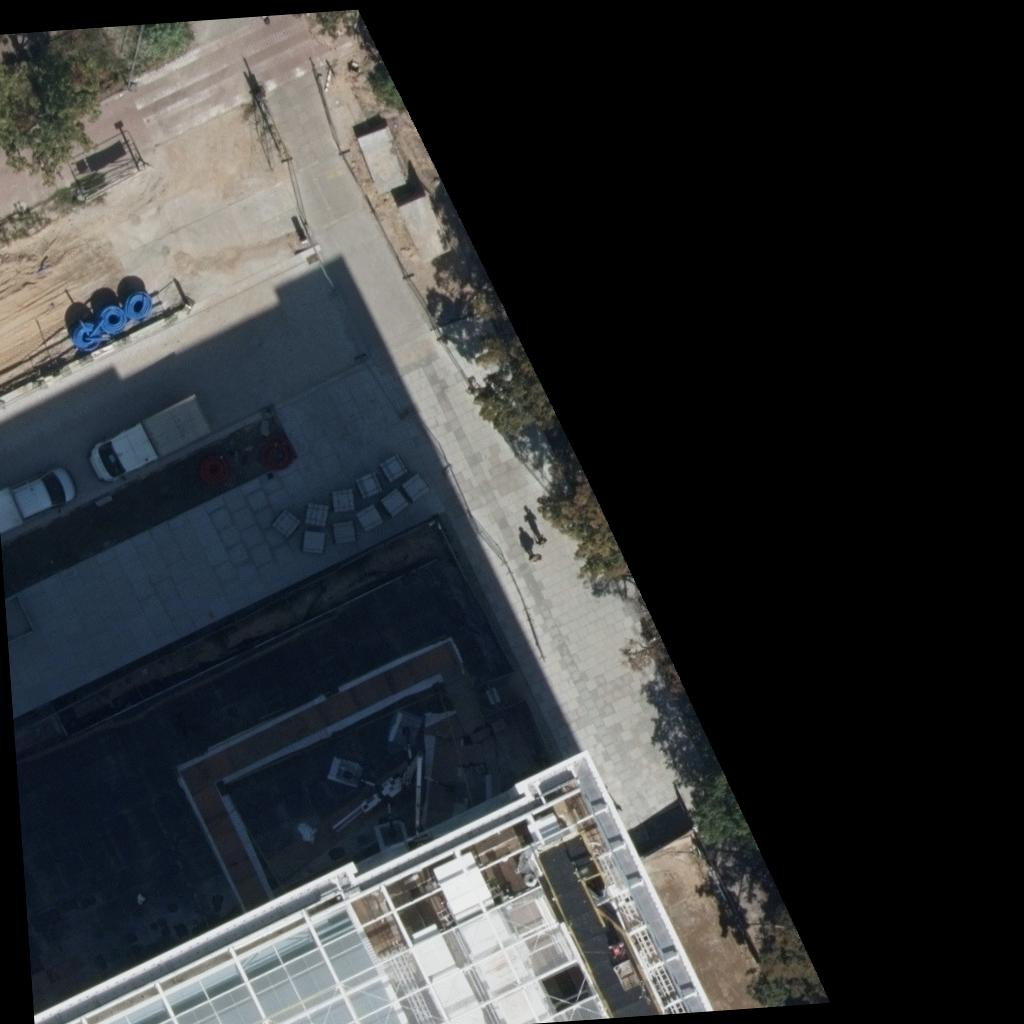samochod_osobowy: (86, 394, 214, 482), (0, 466, 78, 533)
